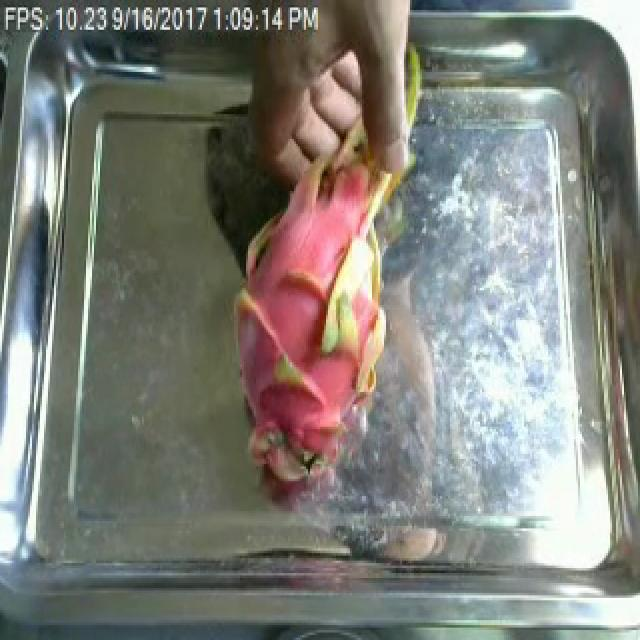fruit: (218, 72, 456, 499)
